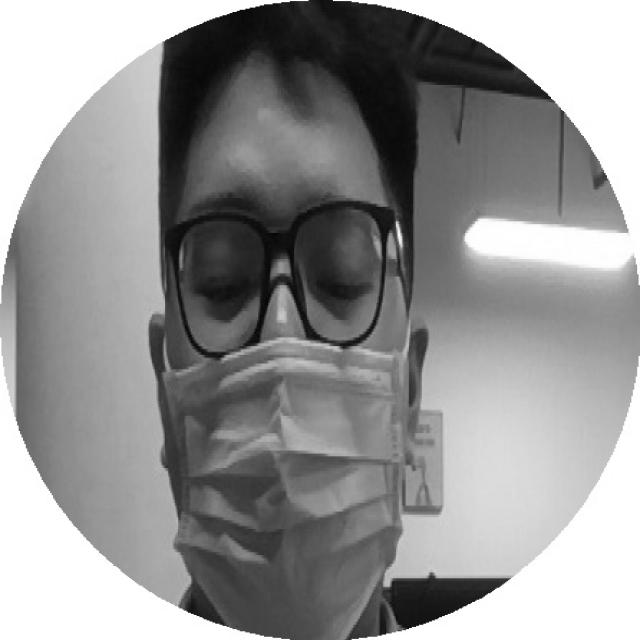fake: (154, 334, 416, 634)
real: (170, 190, 390, 316)
